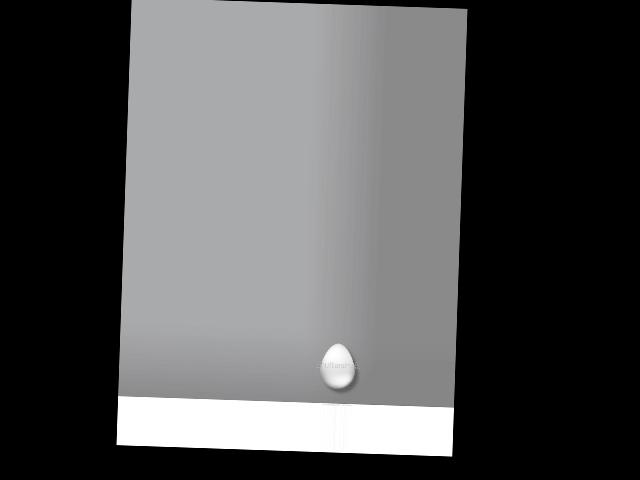egg: (319, 342, 356, 388)
